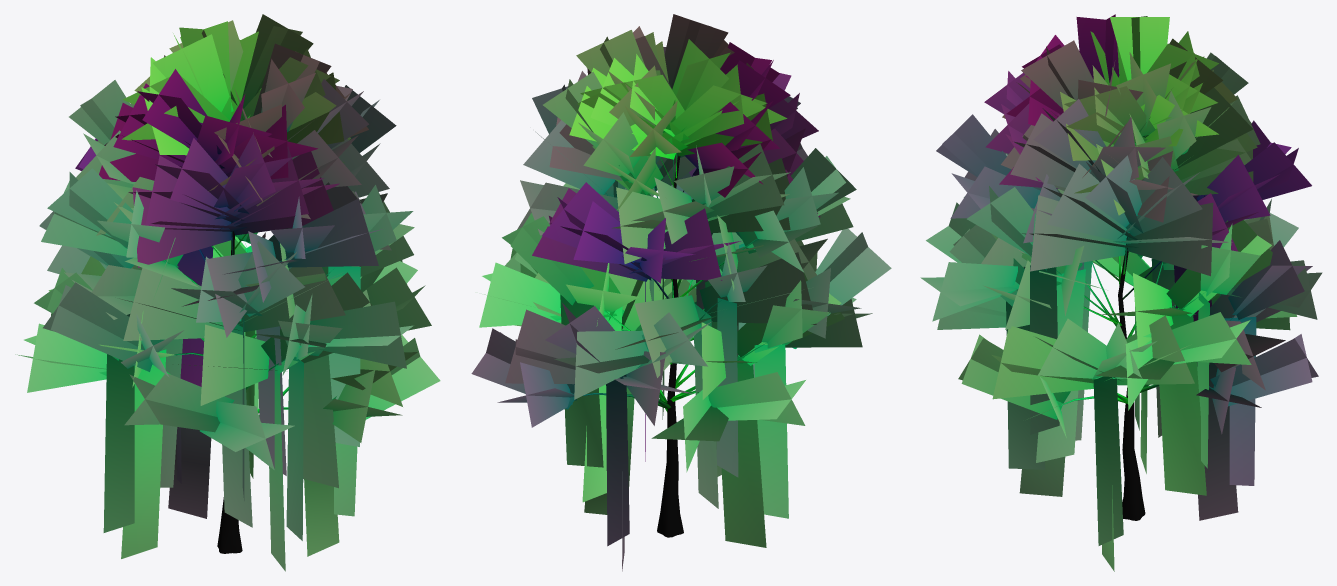
The model's file is Tree_10_5.fbx.
3 views of the same model, side by side, from view 1: azimuth 30°, elevation 25°; view 2: azimuth 150°, elevation 25°; view 3: azimuth 270°, elevation 25° (orthographic). The views are drawn at different scales.
Parts seen in each view (by area): view 1: _5; view 2: _5; view 3: _5.
Part boxes in pixels (bbox=[...]): _5: bbox=[15, 14, 440, 571]; _5: bbox=[471, 14, 891, 571]; _5: bbox=[920, 14, 1322, 571].
Size of the model in its own units: 1270 by 1729 by 1263.
